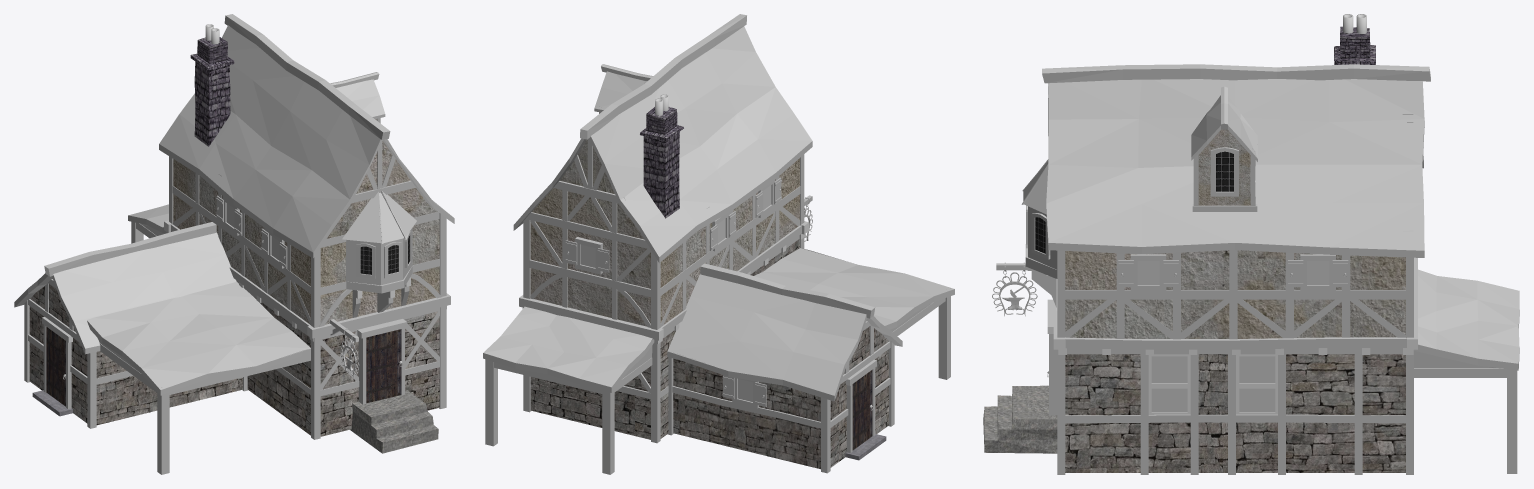
Rendered from Blacksmith.dae.
The picture shows the model from 3 angles, left to right: view 1: azimuth 30°, elevation 25°; view 2: azimuth 150°, elevation 25°; view 3: azimuth 270°, elevation 25°; orthographic projection. The views are drawn at different scales.
Parts seen in each view (by area): view 1: Roof, WoodenBeams, Level1, Level2_001, RoofFrame, Level1_001, Steps, Chimney, Level2_000, DoorFront, WoodenBeamsExtraFront, WindowFrames (+5 smaller); view 2: Roof, WoodenBeams, Level1, Level2_001, RoofFrame, Level1_001, Chimney, WoodenBeamsExtraBack, Level2_000, WindowFrames, WoodenBeamsExtraFront, DoorSide (+1 smaller); view 3: Roof, WoodenBeams, Level1, Level2_001, RoofFrame, WindowFrames, Steps, Level1_001, WoodenBeamsExtraBack, Level2_000, Level3, Window1Level1 (+7 smaller).
Boxes of the visible parts, bbox=[...] form: Roof: bbox=[53, 25, 451, 389]; WoodenBeams: bbox=[24, 118, 450, 439]; Level1: bbox=[29, 284, 439, 436]; Level2_001: bbox=[173, 141, 439, 324]; RoofFrame: bbox=[14, 14, 454, 395]; Level1_001: bbox=[29, 284, 437, 436]; Steps: bbox=[352, 390, 438, 453]; Chimney: bbox=[190, 37, 234, 146]; Level2_000: bbox=[173, 143, 439, 320]; DoorFront: bbox=[366, 329, 401, 403]; WoodenBeamsExtraFront: bbox=[97, 338, 310, 474]; WindowFrames: bbox=[216, 195, 411, 278]; Roof: bbox=[483, 26, 953, 395]; WoodenBeams: bbox=[519, 112, 894, 473]; Level1: bbox=[530, 239, 888, 469]; Level2_001: bbox=[530, 139, 799, 326]; RoofFrame: bbox=[483, 14, 954, 401]; Level1_001: bbox=[531, 240, 888, 466]; Chimney: bbox=[640, 107, 683, 218]; WoodenBeamsExtraBack: bbox=[485, 345, 652, 474]; Level2_000: bbox=[530, 140, 799, 324]; WindowFrames: bbox=[565, 177, 781, 408]; WoodenBeamsExtraFront: bbox=[890, 288, 950, 379]; DoorSide: bbox=[852, 370, 872, 450]; Roof: bbox=[1023, 79, 1519, 363]; WoodenBeams: bbox=[1021, 114, 1417, 474]; Level1: bbox=[1065, 354, 1405, 472]; Level2_001: bbox=[1065, 250, 1405, 338]; RoofFrame: bbox=[1042, 64, 1519, 370]; WindowFrames: bbox=[1026, 147, 1348, 414]; Steps: bbox=[983, 385, 1057, 453]; Level1_001: bbox=[1065, 354, 1401, 471]; WoodenBeamsExtraBack: bbox=[1414, 344, 1517, 473]; Level2_000: bbox=[1065, 250, 1395, 337]; Level3: bbox=[1198, 129, 1250, 205]; Window1Level1: bbox=[1151, 356, 1187, 412].
Size of the model in its own units: 9.83 by 12.14 by 9.81.
